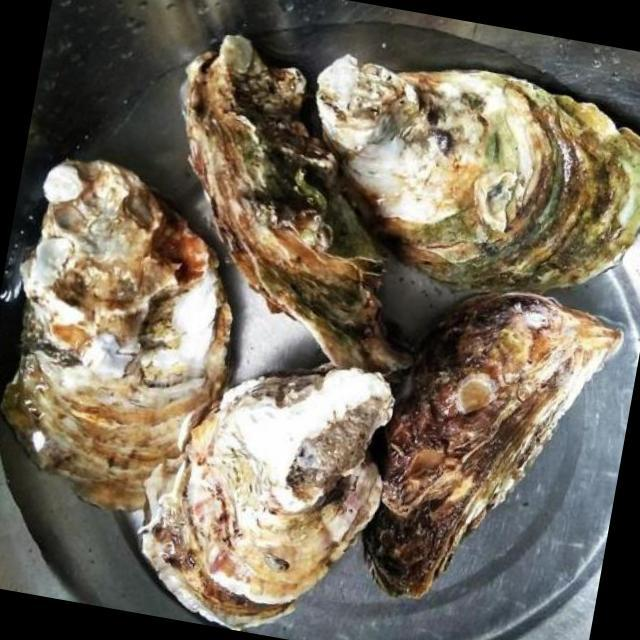Oyster- Indeterminate: (139, 26, 457, 382), (0, 143, 260, 531), (283, 38, 640, 316), (356, 273, 626, 628), (122, 336, 403, 640)
